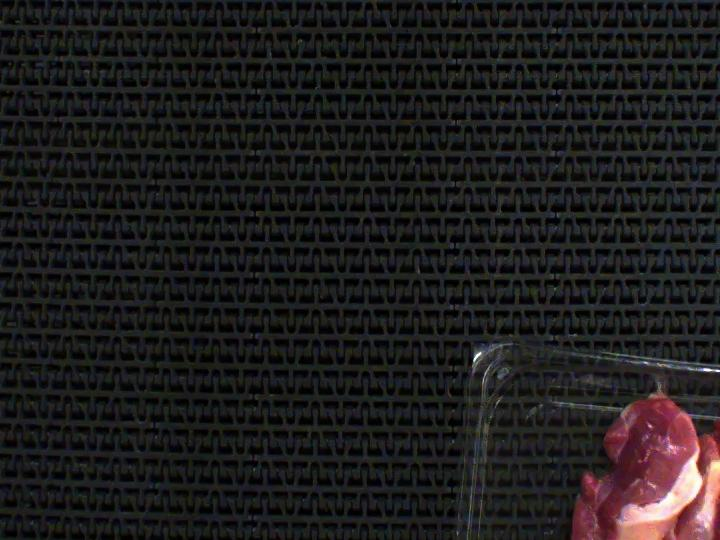packaging-error: (650, 367, 671, 398)
